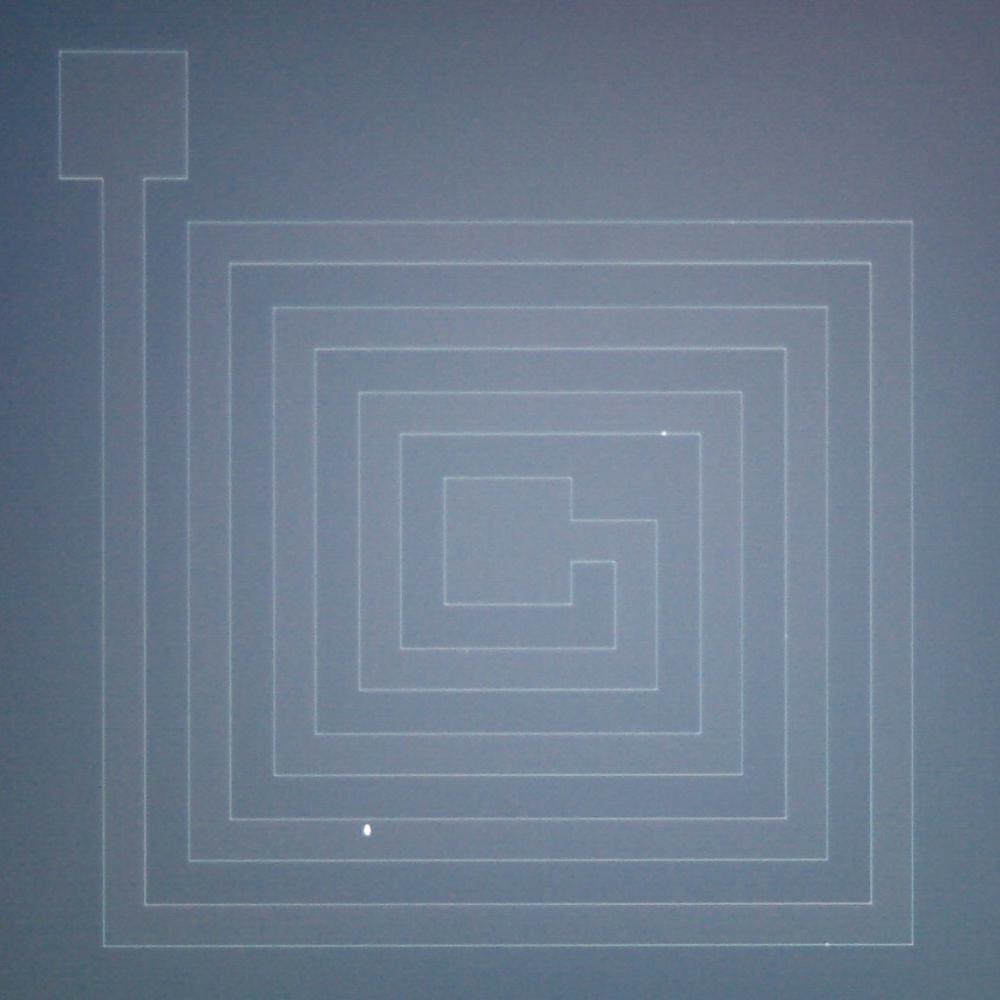dot: (361, 824, 373, 835), (662, 431, 666, 436)
